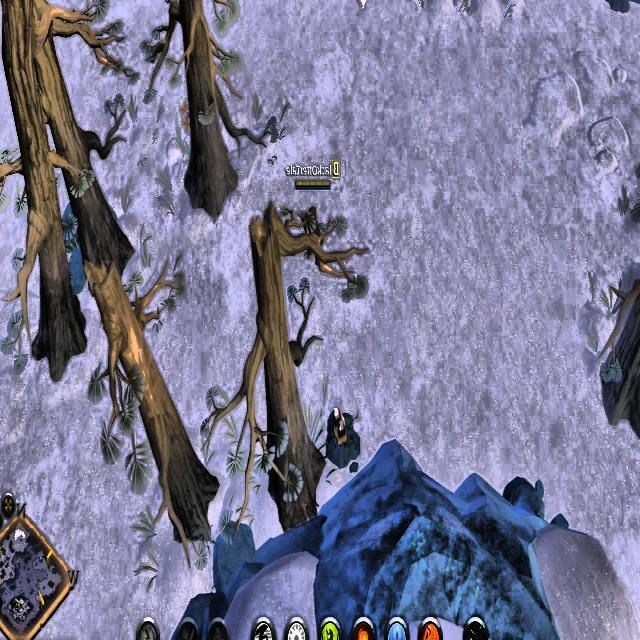copperore: (324, 405, 360, 477)
